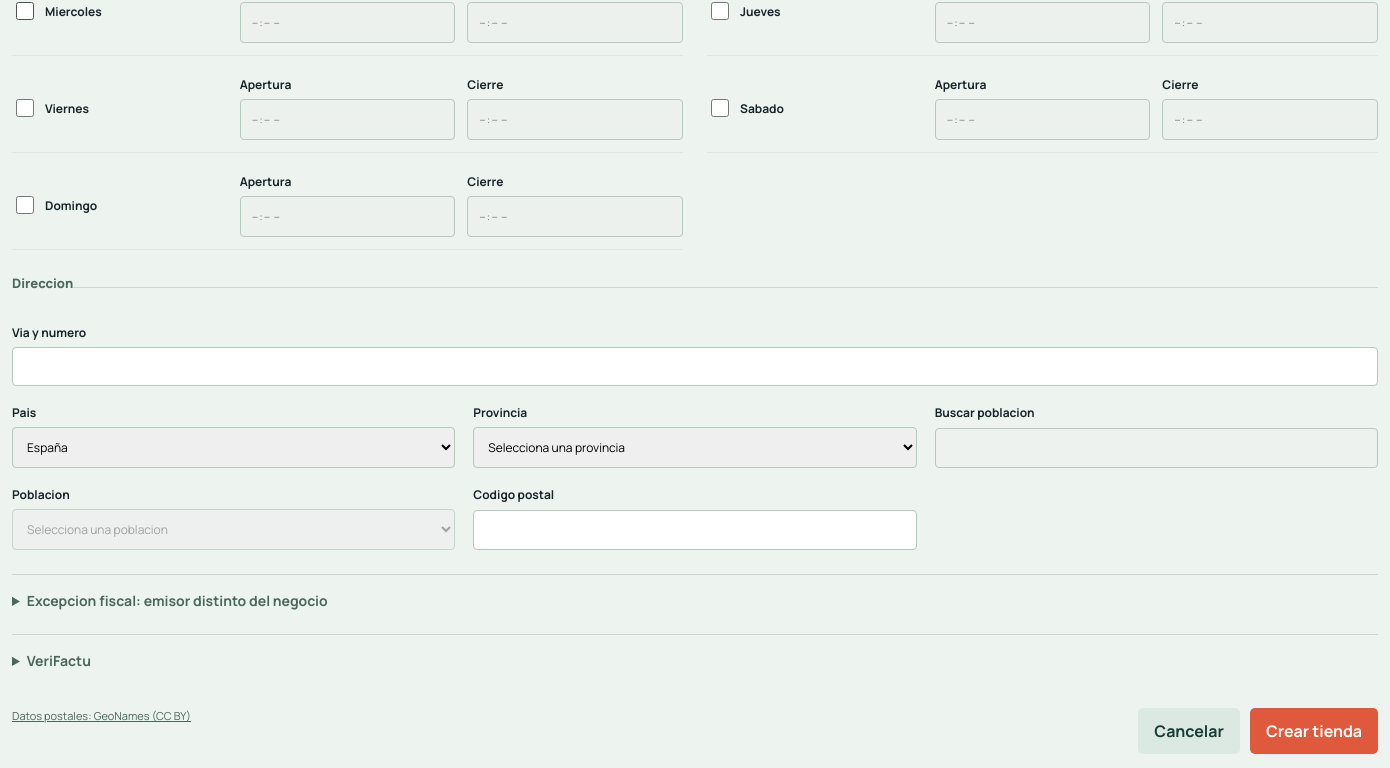
Test: ficha de tiendas › limpia poblacion y codigo al cambiar provincia y bloquea paises sin cobertura
(page scrolled)
Select "Madrid" in the dropdown labelled "Provincia" at [695, 448], box left=473, top=427, right=917, bottom=468
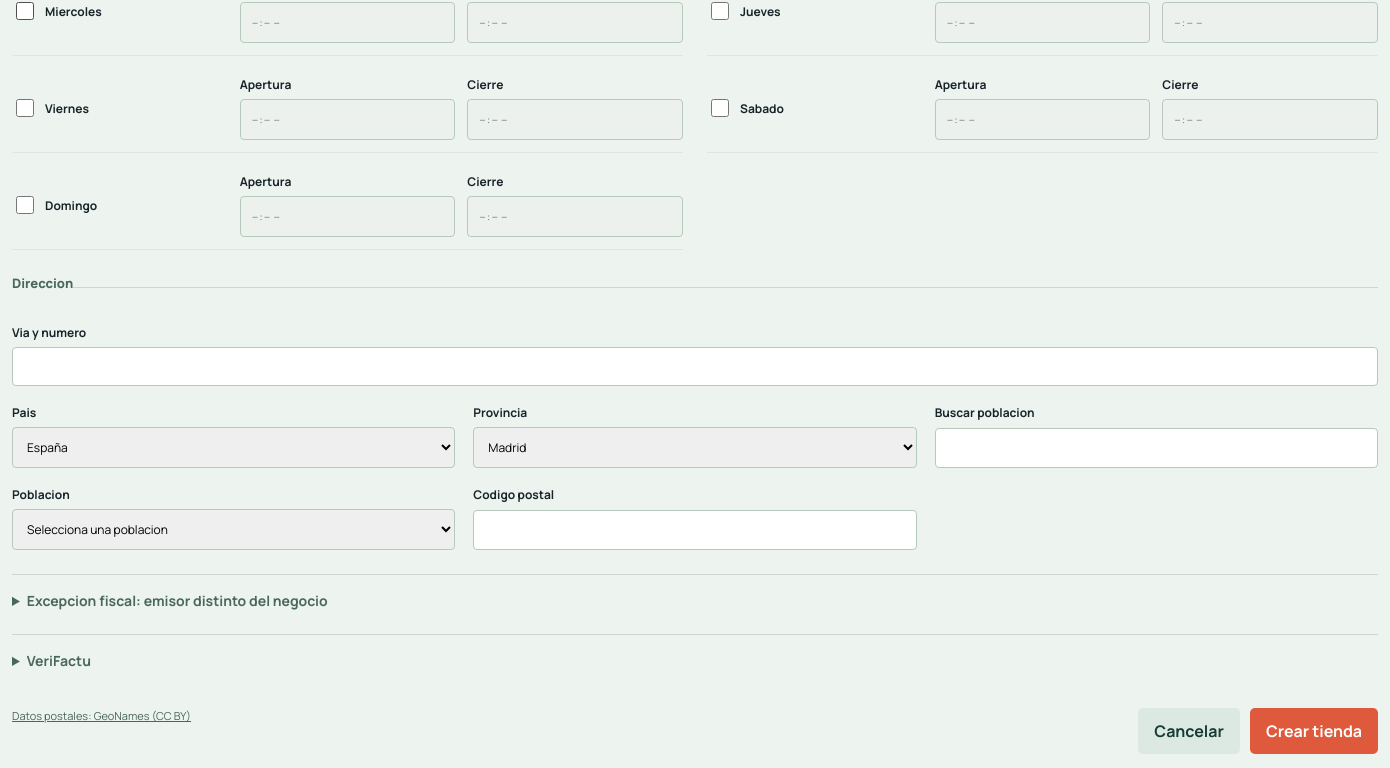
Select "Madrid" in the dropdown labelled "Poblacion" at [234, 530], box left=12, top=509, right=455, bottom=550
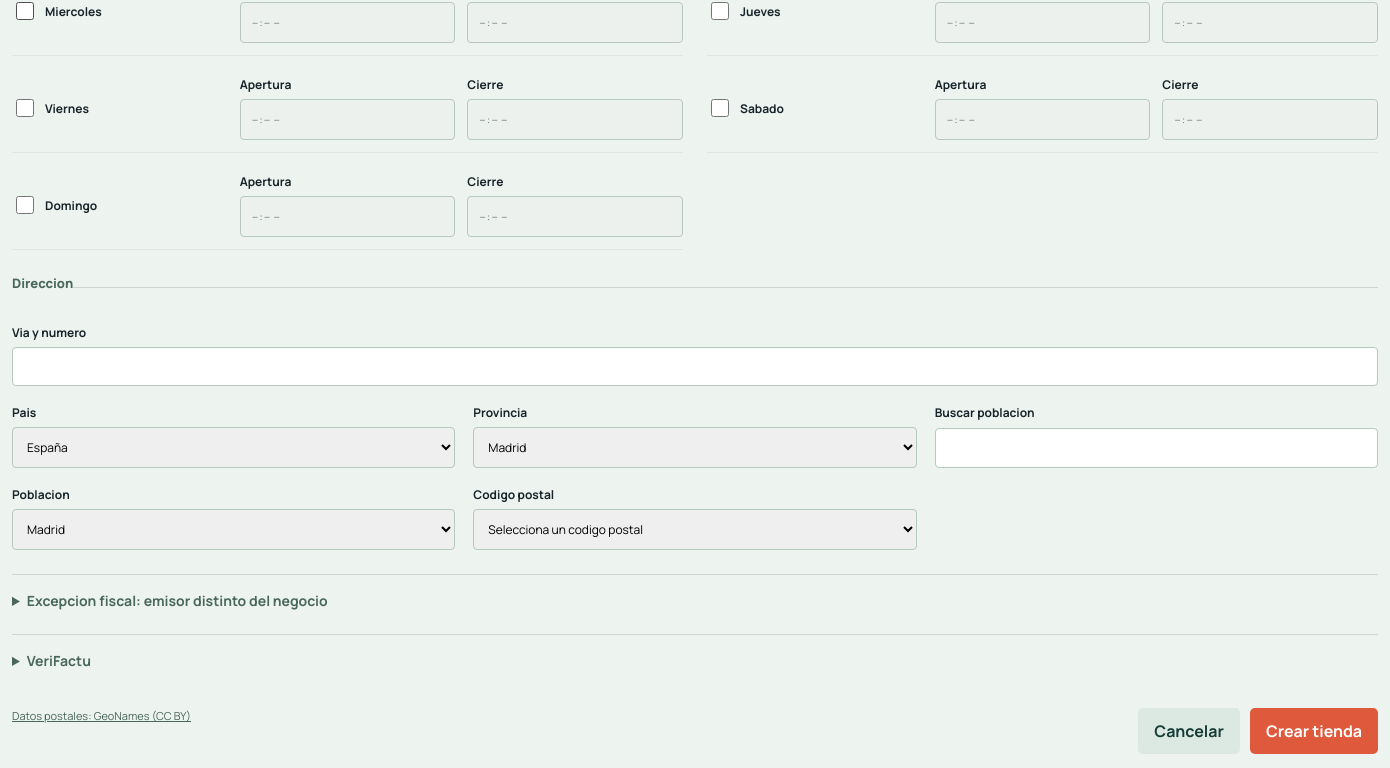
Select "28001" in the dropdown labelled "Codigo postal" at [695, 530], box left=473, top=509, right=917, bottom=550
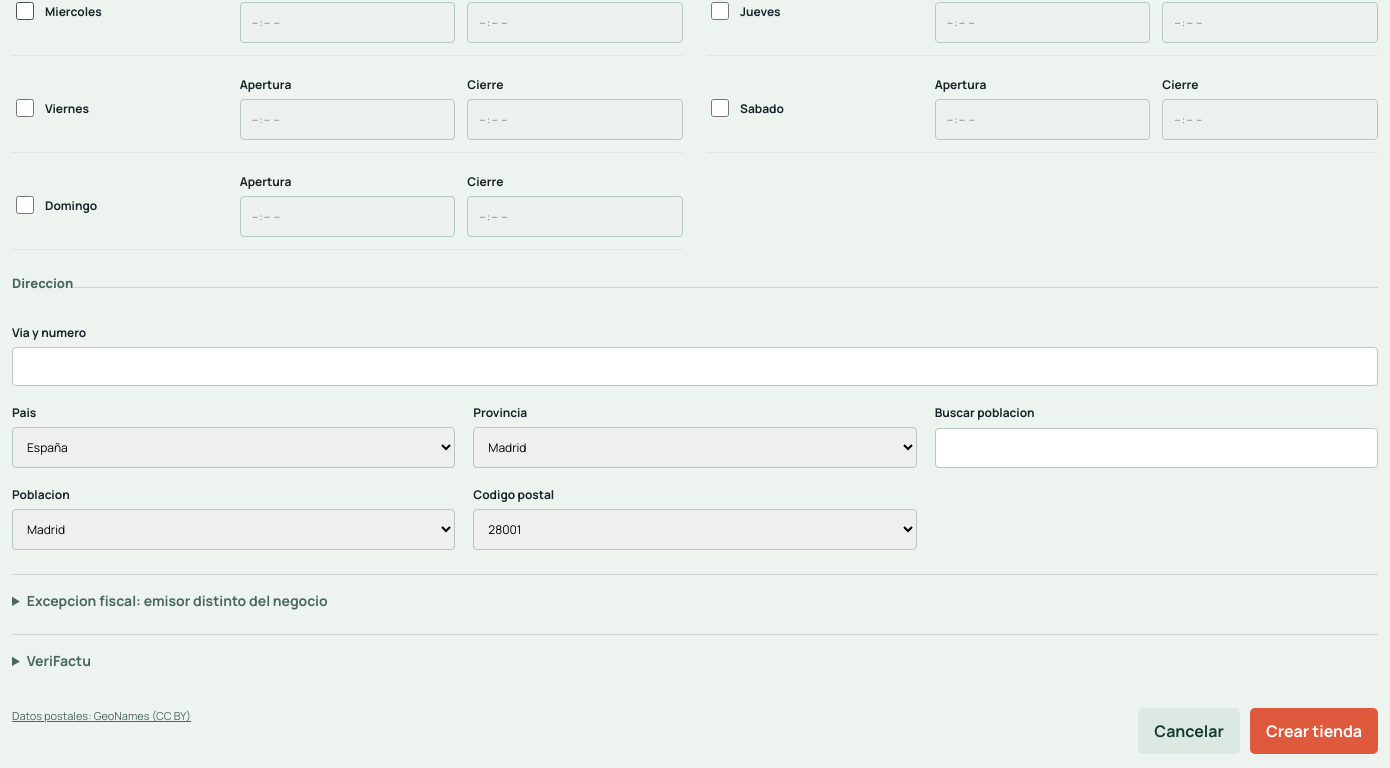
Select "Valencia" in the dropdown labelled "Provincia" at [695, 448], box left=473, top=427, right=917, bottom=468
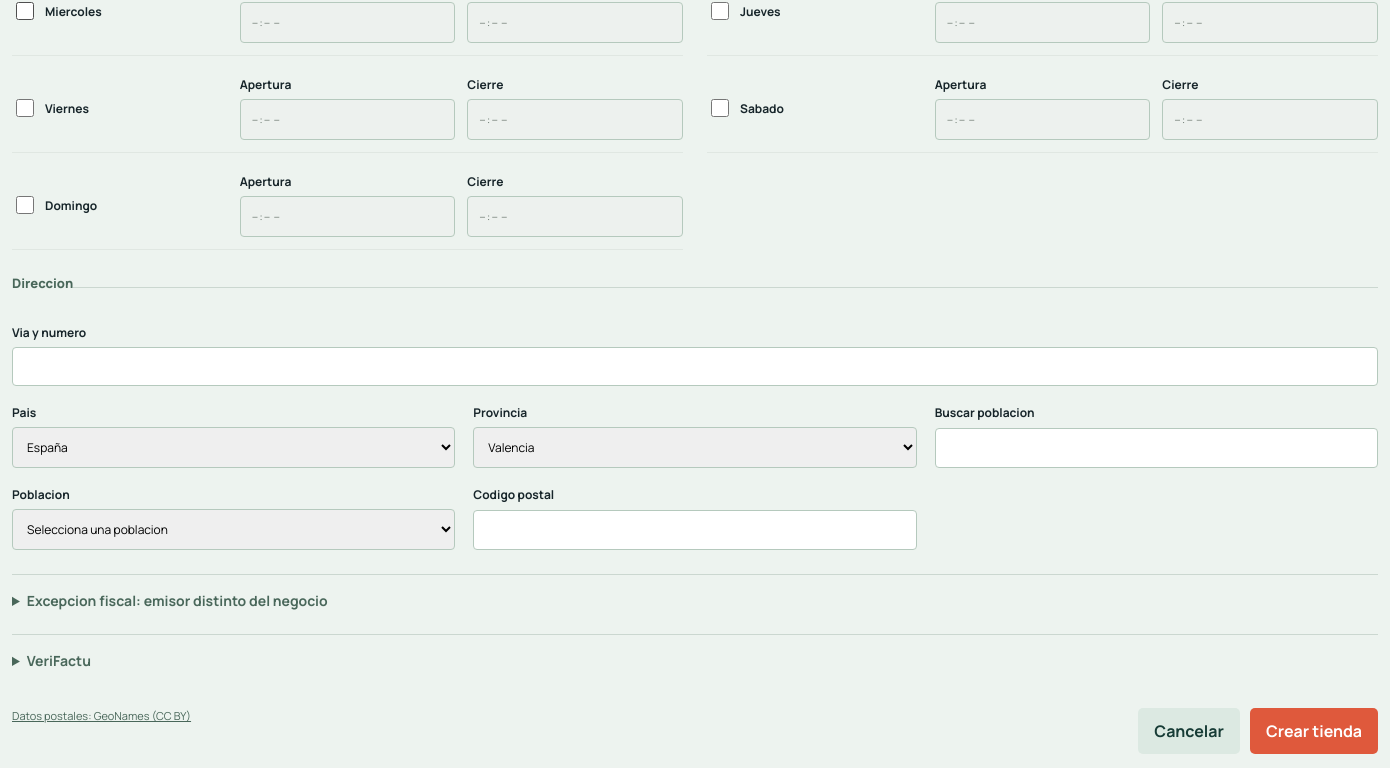
Now the field labelled "Codigo postal" is empty, box left=473, top=510, right=917, bottom=550
Select "Francia" in the dropdown labelled "Pais" at [234, 448], box left=12, top=427, right=455, bottom=468
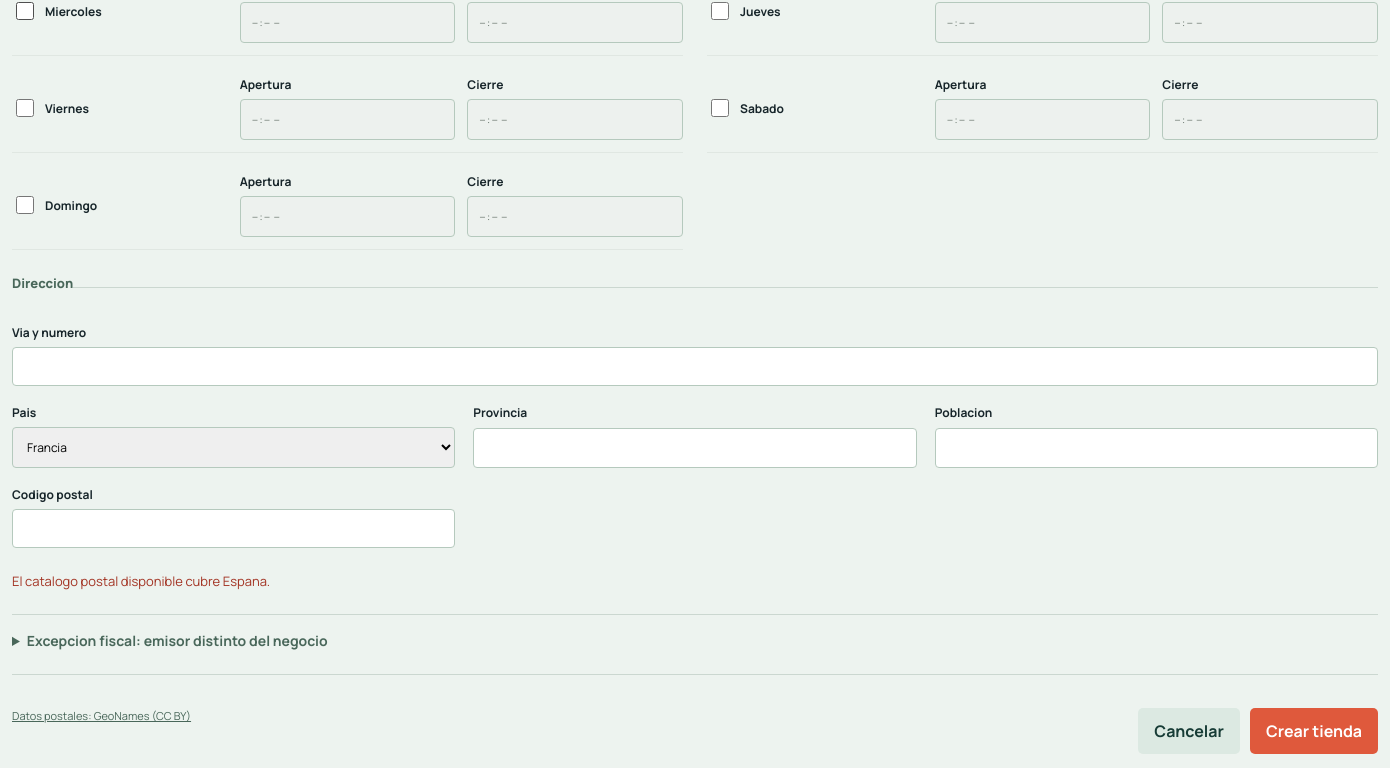
Expected: the button "Crear tienda" is disabled, left=1250, top=708, right=1378, bottom=754
Now the text "El catalogo postal disponible cubre Espana." is shown, box left=12, top=572, right=270, bottom=590
